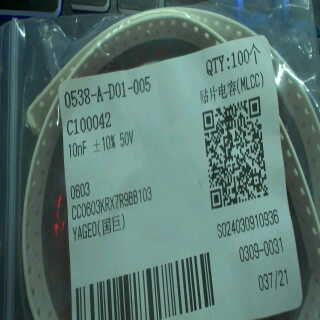10nF: (67, 139, 90, 158)
